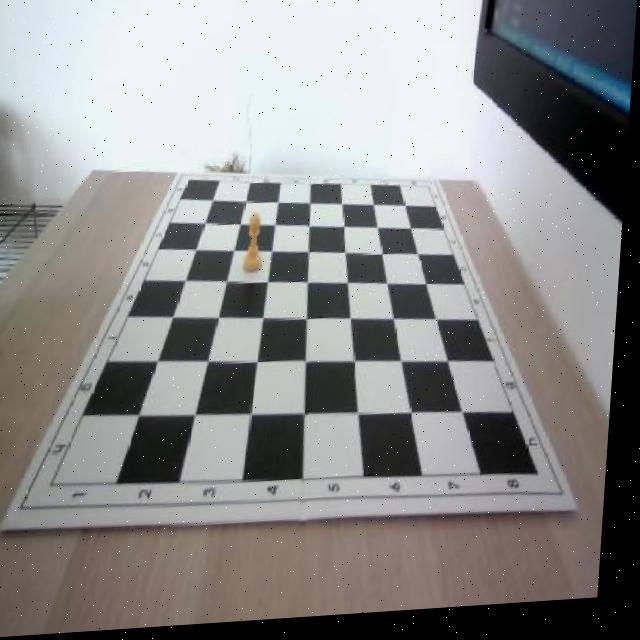white-knight: (245, 216, 269, 277)
